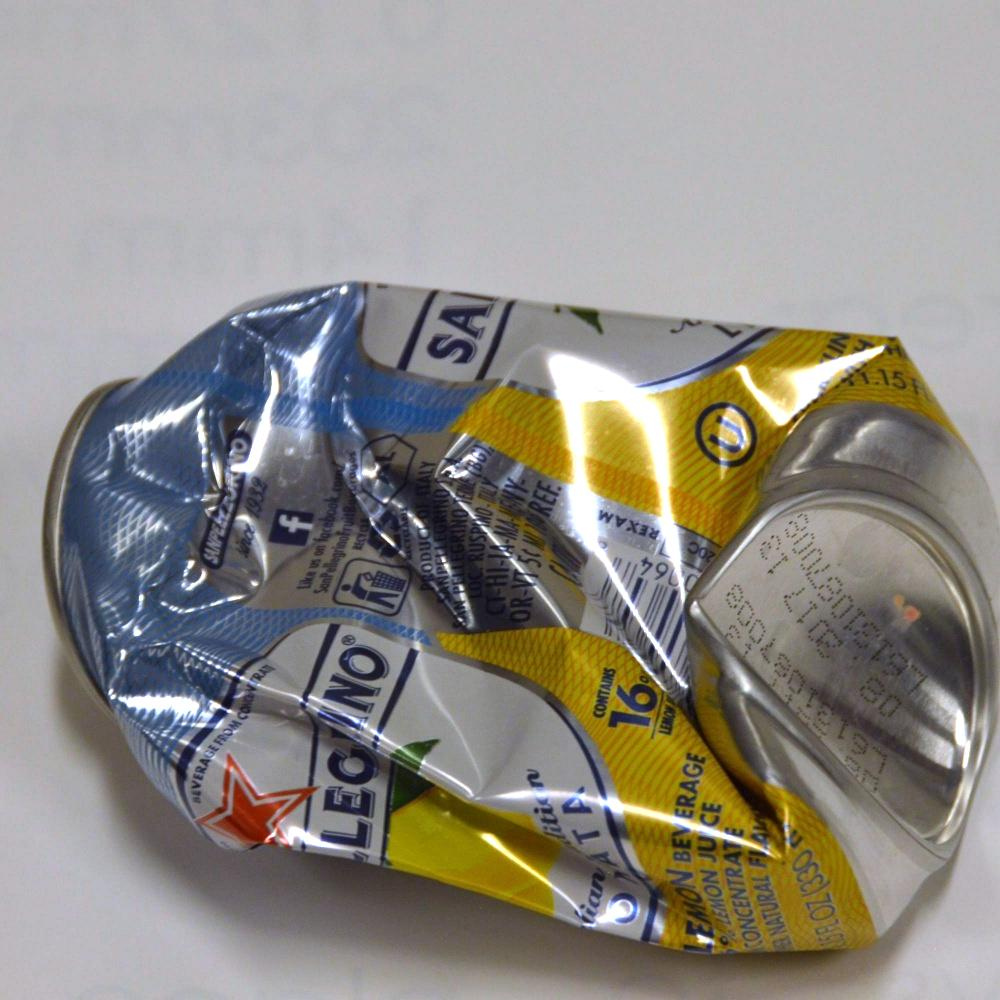Metal: (43, 243, 970, 975)
